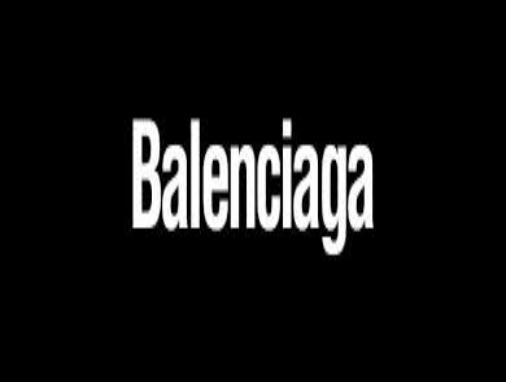BALENCIAGA: (129, 109, 376, 263)
